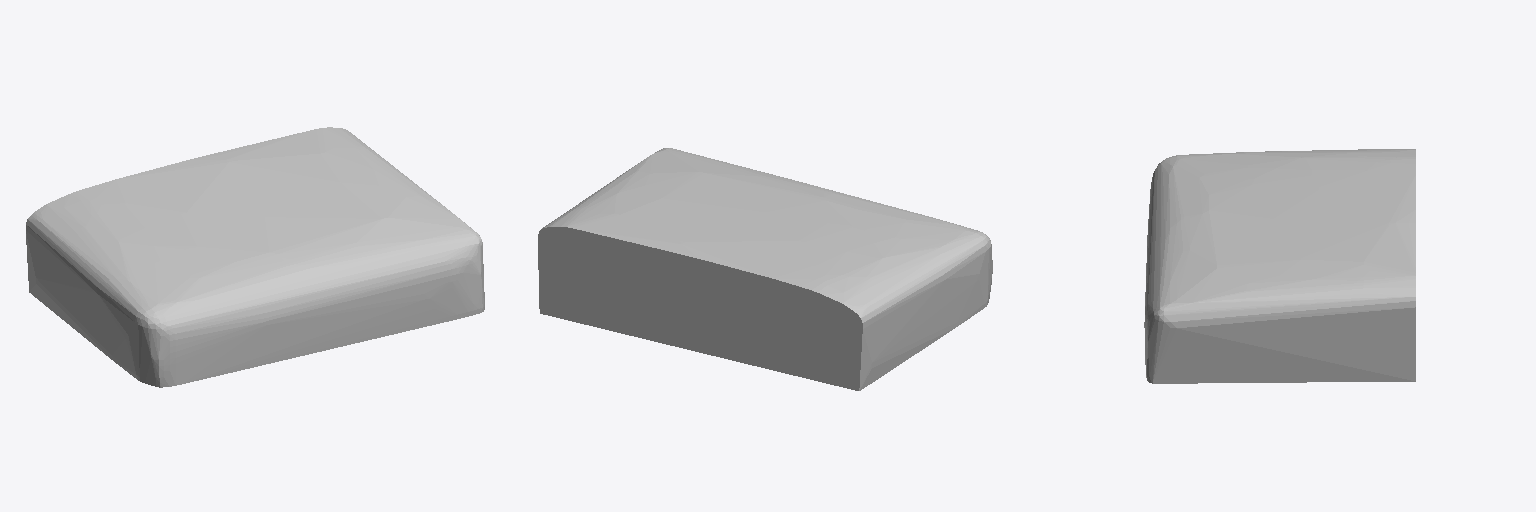
The model's file is box_pink_M_collision_2.obj.
3 renders of one model, left to right at view 1: azimuth 30°, elevation 25°; view 2: azimuth 150°, elevation 25°; view 3: azimuth 270°, elevation 25°, orthographic.
Bounding box in the file's own units: 0.0699 × 0.0186 × 0.0484.